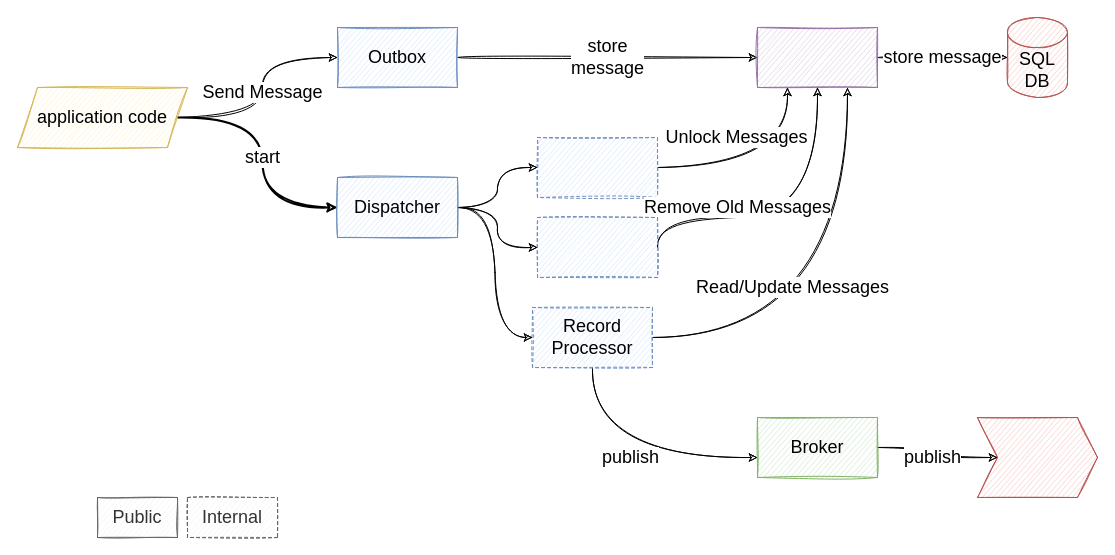
The diagram is 1115 pixels wide and 555 high, and some of its shapes have lost their labels. Here are the shapes that lost their labels. From the top down, the box of each, then its label:
(756, 26, 878, 88): Store
(536, 136, 658, 198): Record Unlocker
(536, 216, 658, 278): Cleanup Worker
(976, 416, 1098, 498): Message Broker
